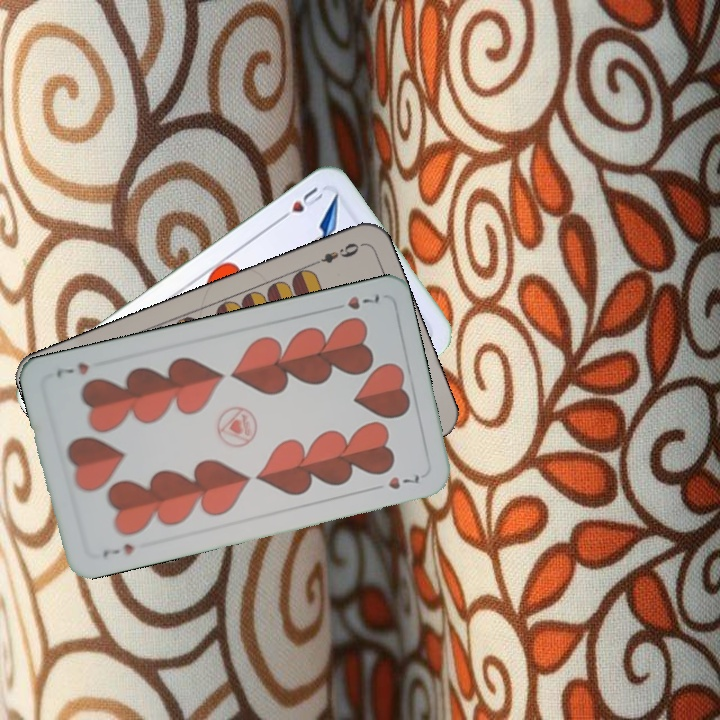E9: (308, 238, 365, 269)
H7: (326, 290, 382, 314), (98, 539, 137, 560)
HU: (274, 183, 326, 225)
